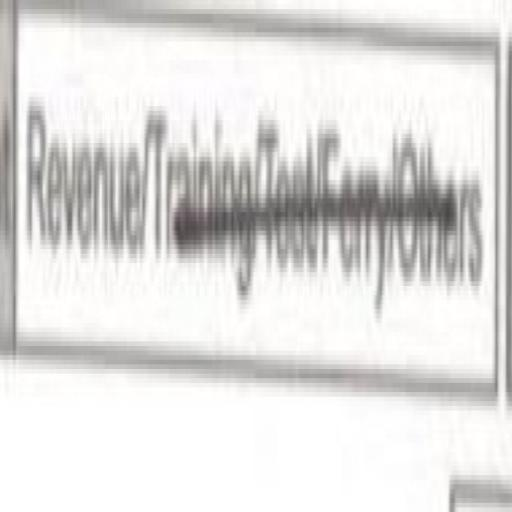check: (13, 9, 143, 395)
